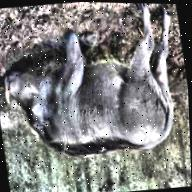boar: (0, 0, 188, 168)
